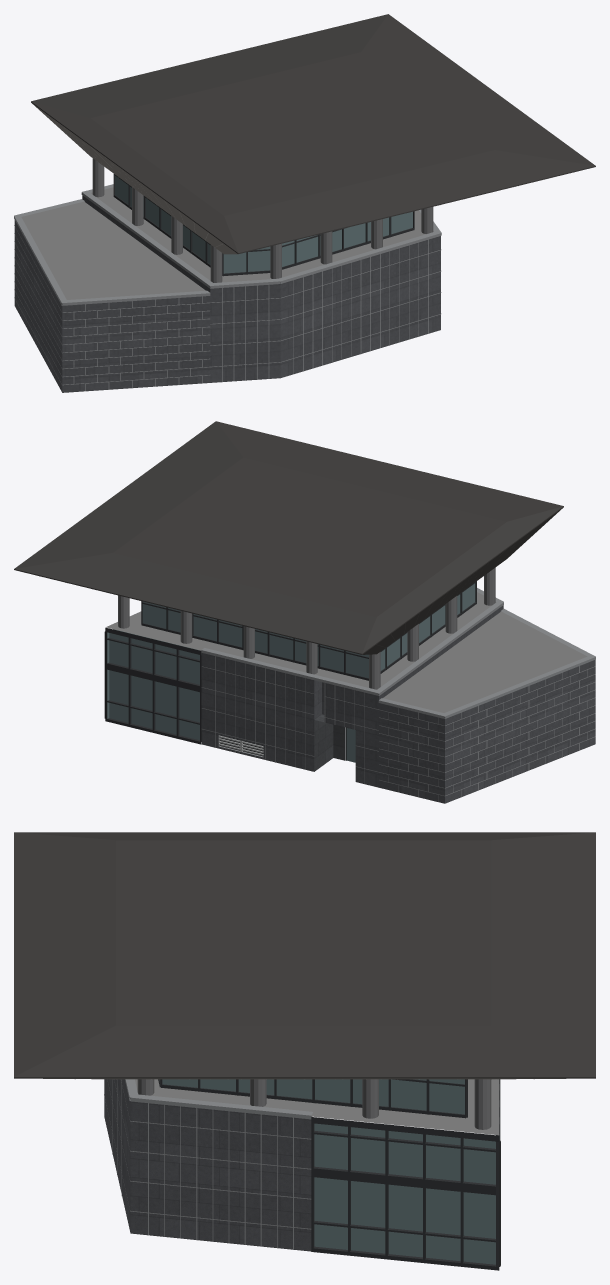
3 views of the same model, one above another, from view 1: azimuth 30°, elevation 25°; view 2: azimuth 150°, elevation 25°; view 3: azimuth 270°, elevation 25° (orthographic). The views are drawn at different scales.
Visible parts, largest first — view 1: wisdomB__roof, wisdomB__wall, wisdomB__roofLow, wisdomB__joint, wisdomB__cap, wisdomB__glass, wisdomB__column, wisdomB__soffit, wisdomB__frame; view 2: wisdomB__roof, wisdomB__wall, wisdomB__roofLow, wisdomB__glass, wisdomB__frame, wisdomB__joint, wisdomB__cap, wisdomB__column, wisdomB__soffit, wisdomB__reveal; view 3: wisdomB__roof, wisdomB__wall, wisdomB__glass, wisdomB__frame, wisdomB__roofLow, wisdomB__joint, wisdomB__column, wisdomB__cap, wisdomB__soffit.
Boxes of the visible parts, bbox=[...] form: wisdomB__roof: bbox=[31, 14, 595, 253]; wisdomB__wall: bbox=[14, 195, 440, 392]; wisdomB__roofLow: bbox=[21, 187, 433, 299]; wisdomB__joint: bbox=[14, 225, 441, 391]; wisdomB__cap: bbox=[14, 184, 441, 305]; wisdomB__glass: bbox=[115, 175, 412, 273]; wisdomB__column: bbox=[92, 158, 433, 282]; wisdomB__soffit: bbox=[32, 103, 237, 254]; wisdomB__frame: bbox=[113, 174, 414, 276]; wisdomB__roof: bbox=[14, 421, 563, 654]; wisdomB__wall: bbox=[199, 605, 595, 803]; wisdomB__roofLow: bbox=[106, 592, 587, 716]; wisdomB__glass: bbox=[107, 583, 475, 762]; wisdomB__frame: bbox=[104, 581, 476, 760]; wisdomB__joint: bbox=[201, 656, 595, 801]; wisdomB__cap: bbox=[201, 588, 595, 757]; wisdomB__column: bbox=[118, 567, 495, 689]; wisdomB__soffit: bbox=[362, 508, 562, 654]; wisdomB__reveal: bbox=[314, 714, 344, 771]; wisdomB__roof: bbox=[14, 832, 595, 1078]; wisdomB__wall: bbox=[104, 1079, 311, 1251]; wisdomB__glass: bbox=[162, 1079, 495, 1264]; wisdomB__frame: bbox=[158, 1079, 500, 1270]; wisdomB__roofLow: bbox=[135, 1079, 499, 1135]; wisdomB__joint: bbox=[104, 1079, 311, 1249]; wisdomB__column: bbox=[137, 1079, 491, 1129]; wisdomB__cap: bbox=[125, 1079, 312, 1119]; wisdomB__soffit: bbox=[43, 1078, 565, 1079].
Size of the model in its own units: 27.15 by 9.65 by 21.1.
12 materials, 2 textured.
